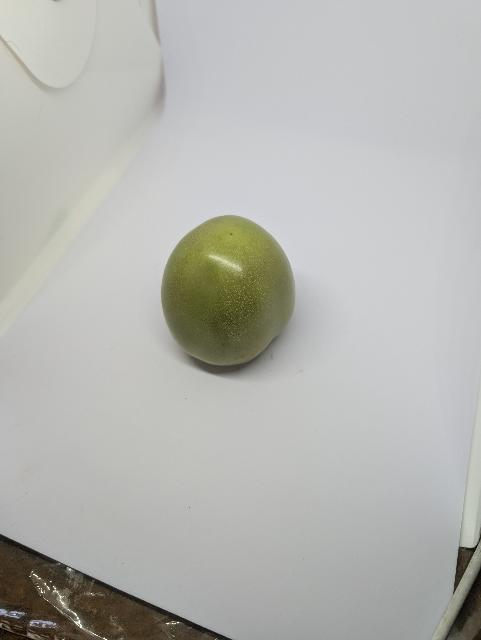green: (144, 208, 302, 390)
